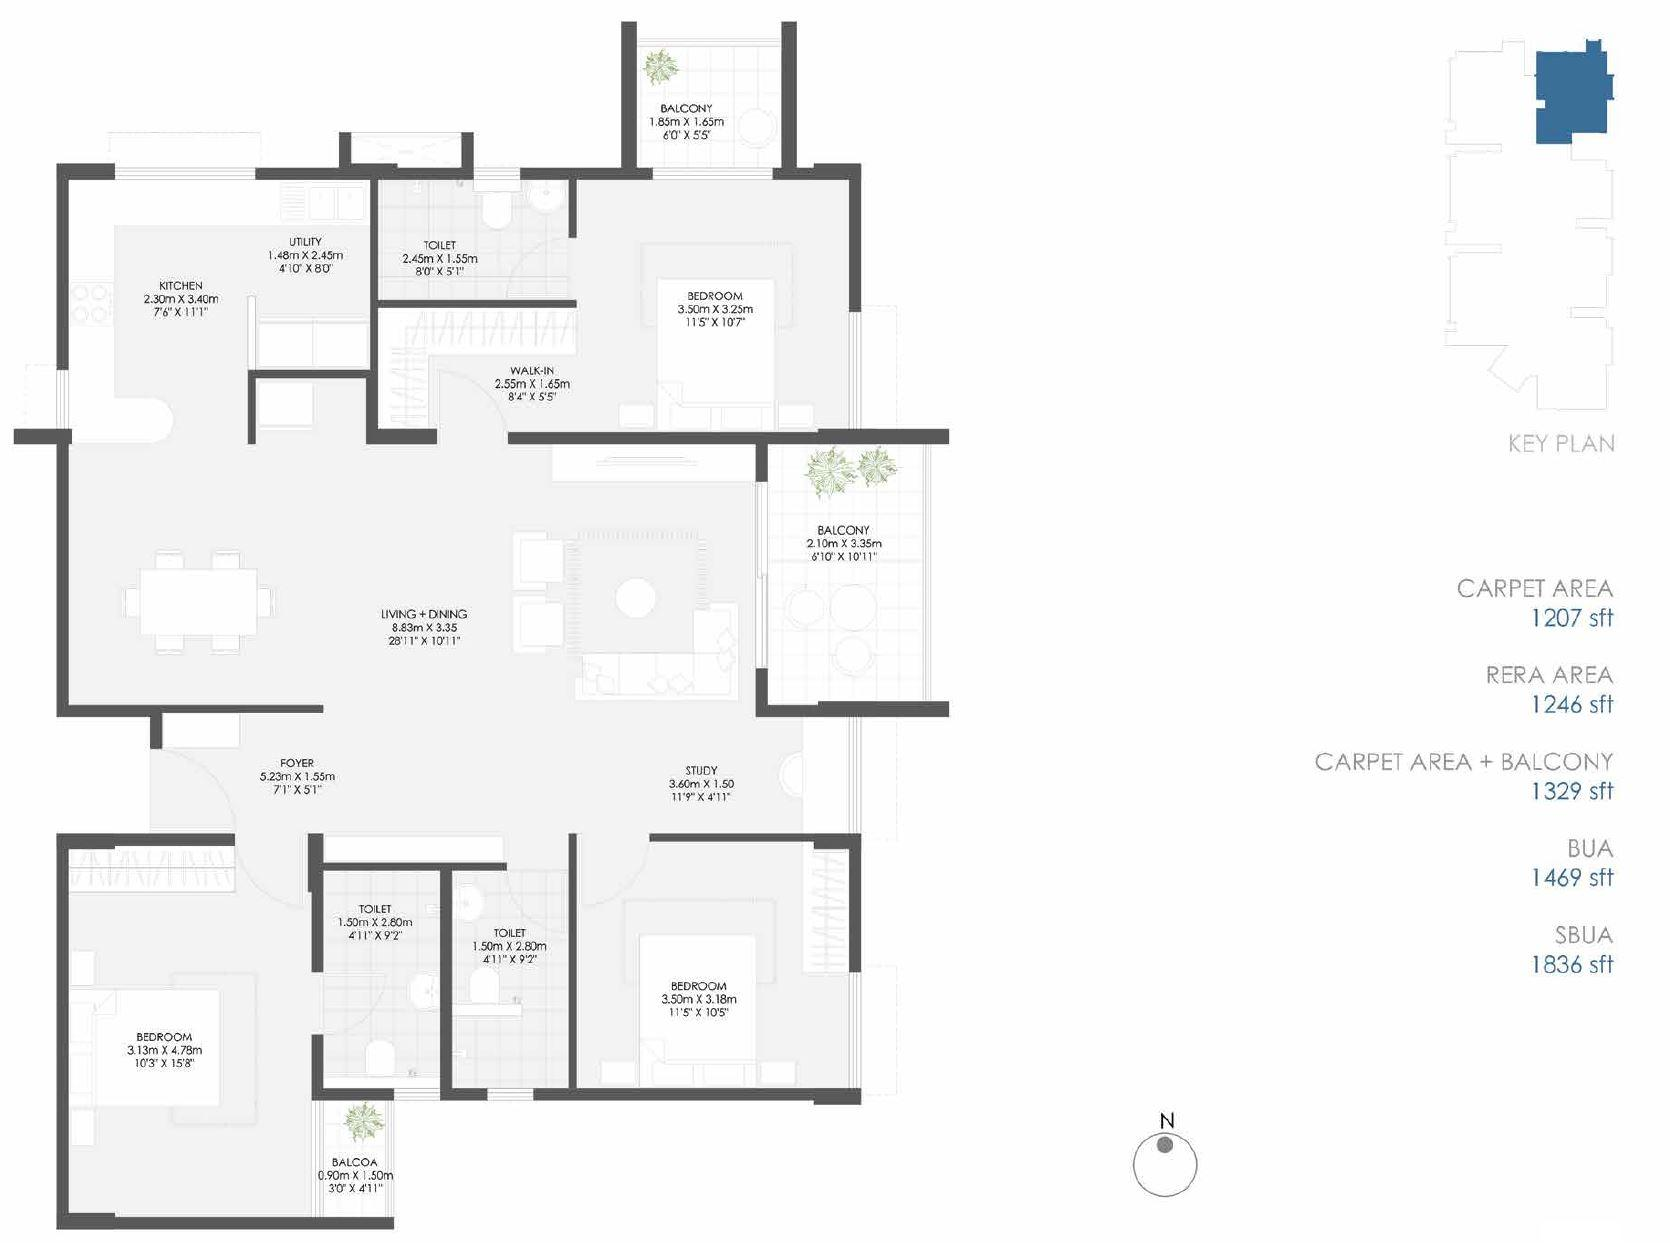Balcony: (758, 438, 922, 703)
Bed: (638, 933, 758, 1087), (65, 989, 217, 1108), (654, 283, 773, 426)
Bedroom: (60, 842, 320, 1214), (576, 834, 859, 1095), (580, 177, 854, 431)
Dining Room: (70, 451, 360, 705)
Dining table: (120, 539, 287, 662)
Foyer: (151, 709, 570, 832)
Kitchen: (70, 177, 246, 437)
Living Room: (416, 446, 754, 707)
Sofa: (582, 649, 741, 701), (696, 605, 741, 694), (508, 597, 565, 656), (508, 533, 566, 586)
Wardrobe: (378, 295, 576, 433), (62, 848, 233, 899), (802, 854, 850, 971)
balcoa: (318, 1101, 390, 1212)
commode: (476, 188, 509, 237), (367, 1046, 398, 1081), (471, 966, 500, 998)
door: (148, 752, 245, 835), (236, 823, 314, 913), (307, 957, 392, 1036), (513, 237, 593, 311), (746, 476, 777, 670), (580, 825, 651, 907), (437, 368, 509, 442), (502, 866, 568, 938), (651, 161, 771, 188)
fridge: (259, 382, 316, 431)
kitchen-slab: (66, 181, 373, 443)
sink: (404, 965, 442, 1014), (521, 175, 565, 217), (447, 885, 488, 925)
study: (570, 709, 854, 832)
toilet: (450, 867, 573, 1097), (319, 870, 443, 1092), (378, 177, 570, 298)
tv: (582, 450, 701, 484)
utility: (254, 177, 367, 367)
walkin: (378, 308, 573, 430)
washing-machine: (259, 314, 365, 367)
